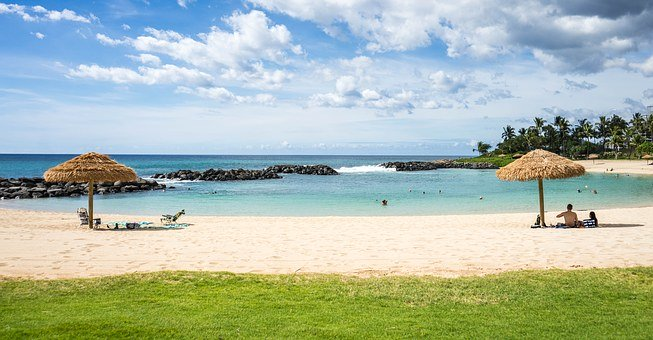beach: (3, 154, 653, 279)
field: (6, 275, 653, 338)
sky: (4, 4, 653, 148)
